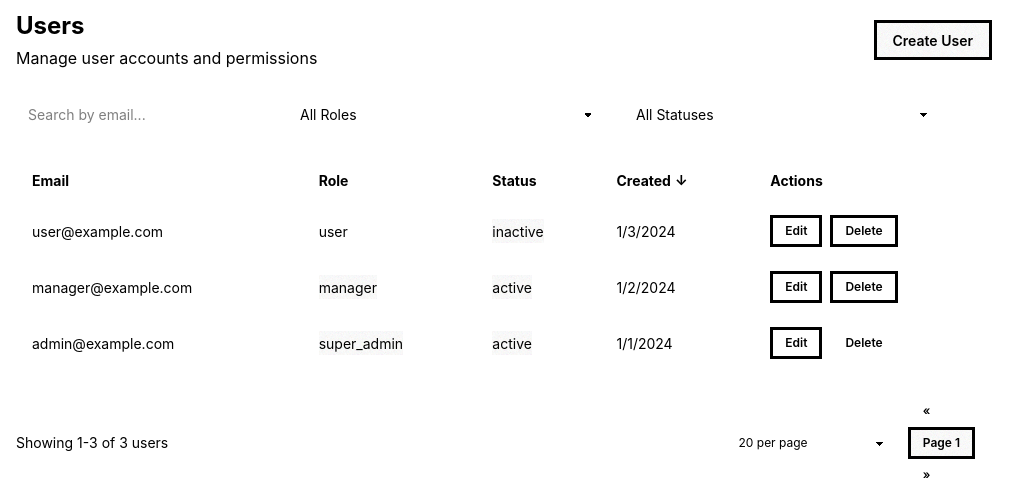
Test case: UsersTable › Sorting › should sort by email when header clicked
Click the column heading with test id "sort-email". click: click(50, 180)
box: [16,158,303,203]
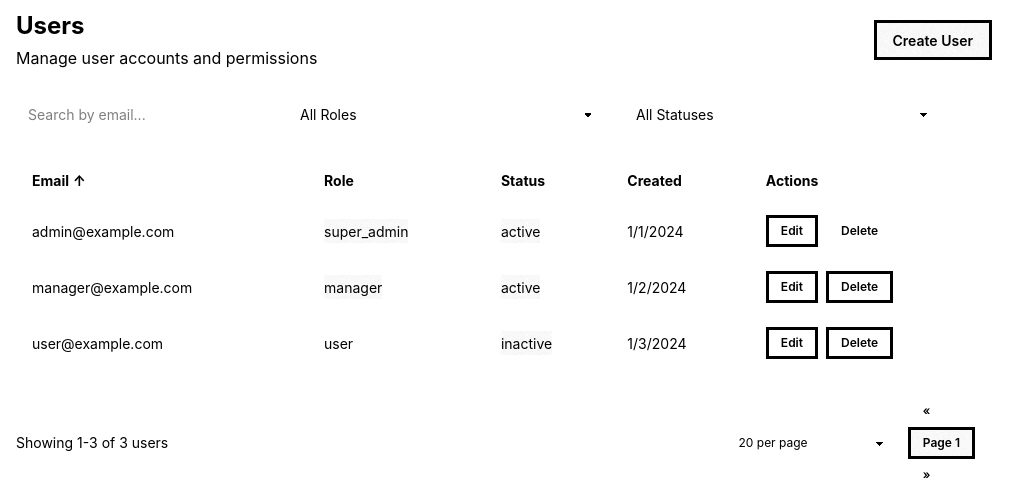
Check: the text "↑" is shown, box [73,172,86,189]
